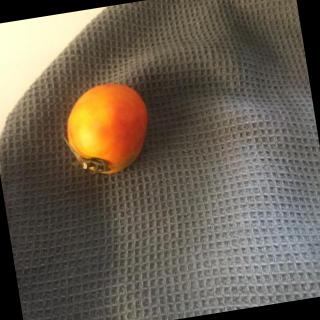Tomat: (45, 71, 177, 207)
